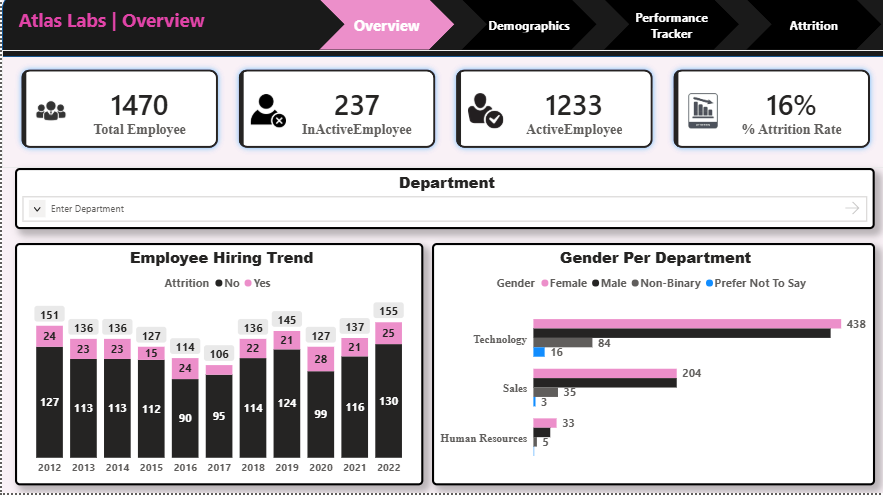

The page's visual inventory and layout, read from the dashboard file:
{"tool":"powerbi","page":{"name":"Overview","canvas":[1280,720],"ordinal":0},"visuals":[{"type":"shape","box":[0,0,1279.8,92.1],"z":0},{"type":"textbox","box":[18.8,8.7,305.8,73.9],"z":1000},{"type":"pageNavigator","box":[456.5,8.7,813,73.9],"z":2000},{"type":"cardVisual","fields":{"Data":["_Measure.Total Employee","_Measure.InActiveEmployee","_Measure.ActiveEmployee","_Measure.% Attrition Rate"]},"box":[0,82.6,1279.7,169.6],"z":3000},{"type":"lineStackedColumnComboChart","title":"Employee Hiring Trend","fields":{"Category":["DimDate.Year"],"Y":["_Measure.Total Employee Date"],"Series":["DimEmployee.Attrition"]},"box":[18.8,359.4,588.4,349.3],"z":4000},{"type":"clusteredBarChart","title":"Gender Per Department","fields":{"Y":["_Measure.Total Employee"],"Category":["DimEmployee.Department"],"Series":["DimEmployee.Gender"]},"box":[618.8,359.4,637.7,349.3],"z":5000},{"type":"textSlicer","fields":{"Values":["DimEmployee.Department"]},"box":[18.8,252.2,1237.7,88.4],"z":6000},{"type":"cardVisual","fields":{"Data":["_Measure.Total Employee","_Measure.InActiveEmployee","_Measure.ActiveEmployee","_Measure.% Attrition Rate"]},"box":[0,82.1,1280.2,169.9],"z":7000}]}

Visuals, with their boxes in screenshot pixels (x1, y1, x2, y2), scaled from the page's 1280x720 canvas onto the 883x497 screenshot:
shape: left=0, top=0, right=882, bottom=64
textbox: left=13, top=6, right=224, bottom=57
pageNavigator: left=315, top=6, right=876, bottom=57
cardVisual - _Measure.Total Employee x _Measure.InActiveEmployee: left=0, top=57, right=882, bottom=174
"Employee Hiring Trend" lineStackedColumnComboChart: left=13, top=248, right=419, bottom=489
"Gender Per Department" clusteredBarChart: left=427, top=248, right=867, bottom=489
textSlicer - DimEmployee.Department: left=13, top=174, right=867, bottom=235
cardVisual - _Measure.Total Employee x _Measure.InActiveEmployee: left=0, top=57, right=882, bottom=174
